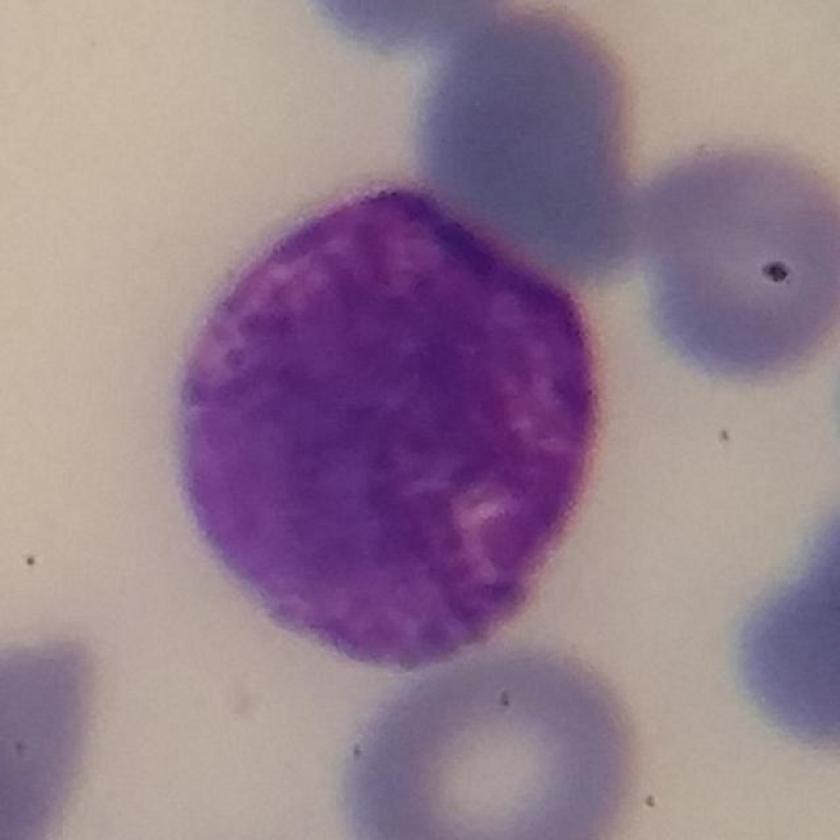basophil: (180, 186, 616, 680)
